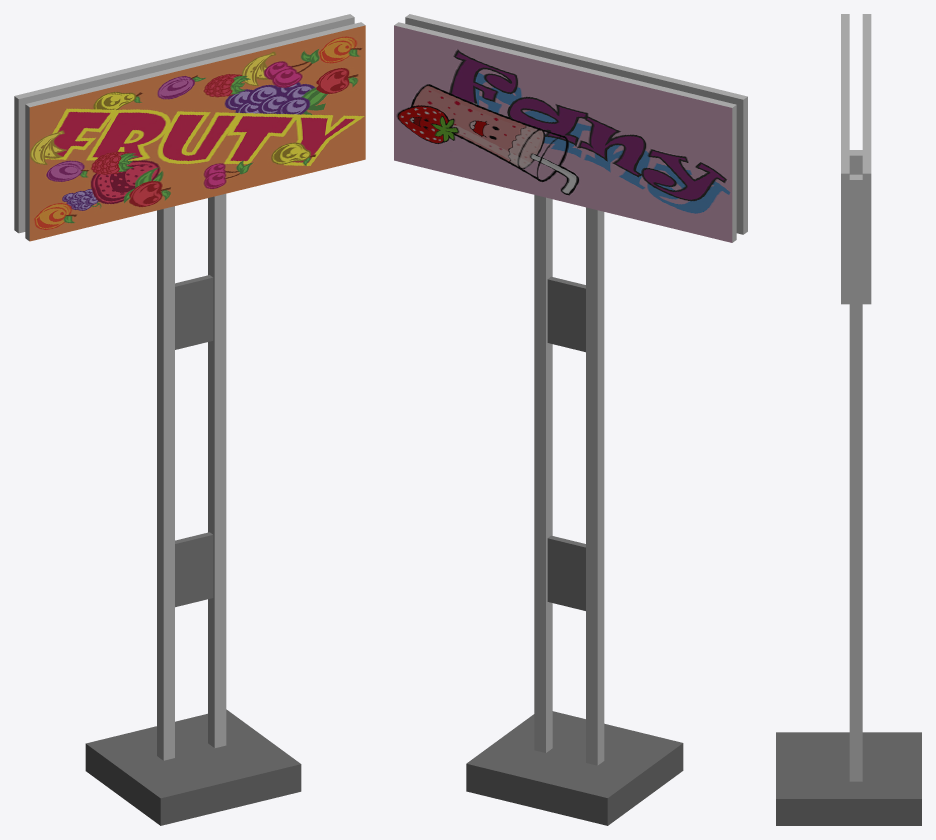
File: SignGas4_1.fbx
3 renders of one model, left to right at view 1: azimuth 30°, elevation 25°; view 2: azimuth 150°, elevation 25°; view 3: azimuth 270°, elevation 25°, orthographic. The views are drawn at different scales.
Visible parts, largest first — view 1: Plane.001; view 2: Plane.001; view 3: Plane.001.
Part boxes in pixels (bbox=[...]): Plane.001: bbox=[14, 14, 365, 825]; Plane.001: bbox=[394, 14, 747, 825]; Plane.001: bbox=[776, 14, 921, 825].
Bounding box in the file's own units: 582 × 1189 × 225.
